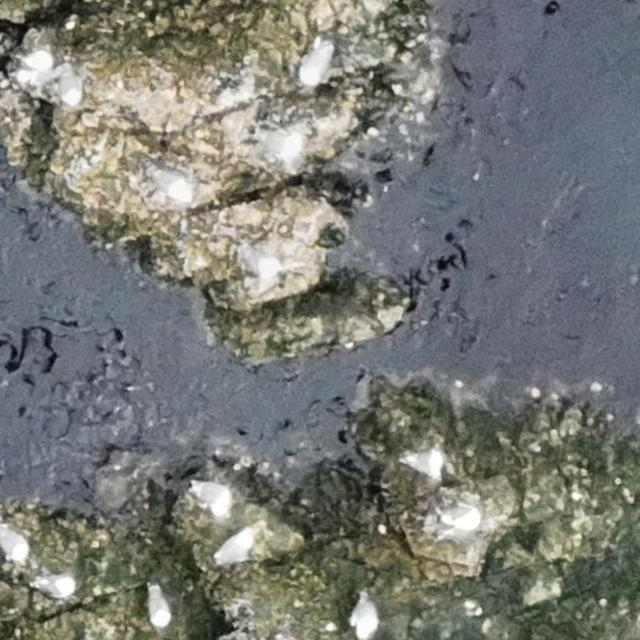umineko: (147, 163, 192, 206), (191, 477, 231, 515), (213, 528, 252, 564), (302, 44, 334, 84), (244, 248, 280, 278), (262, 130, 299, 159), (0, 524, 27, 562), (148, 585, 172, 627), (58, 63, 80, 108), (408, 449, 444, 476), (354, 596, 376, 639), (443, 508, 480, 530), (40, 579, 76, 599)
